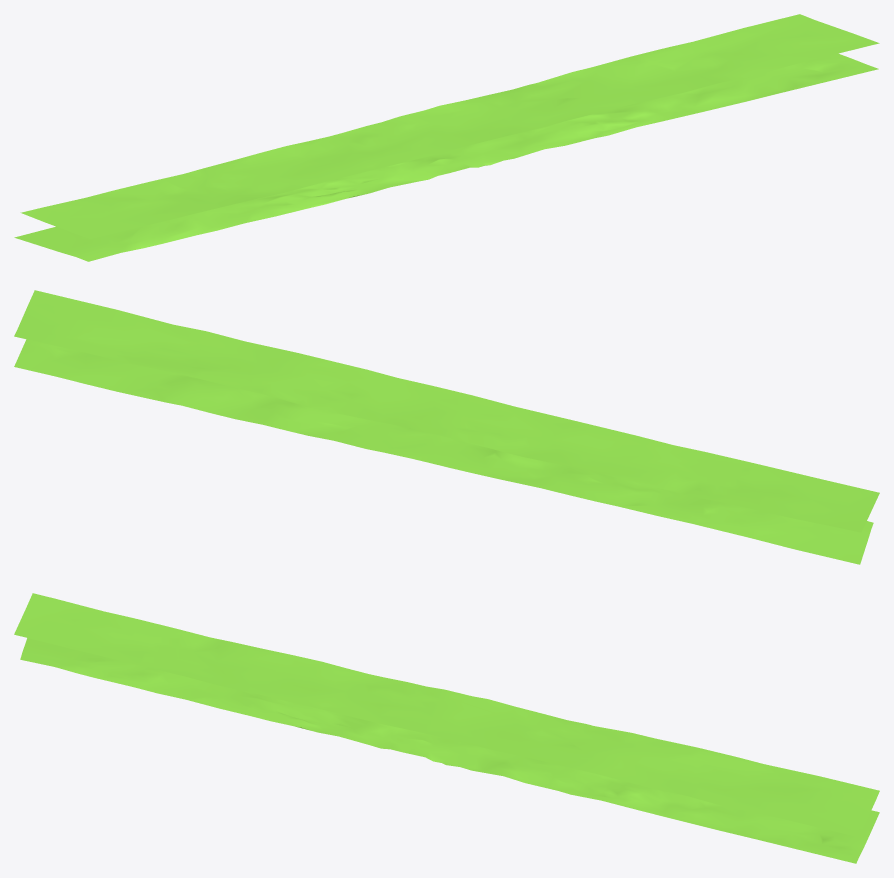
File: Unique 1.fbx
The picture shows the model from 3 angles, top to bottom: view 1: azimuth 30°, elevation 25°; view 2: azimuth 150°, elevation 25°; view 3: azimuth 330°, elevation 25°; orthographic projection. The views are drawn at different scales.
Parts seen in each view (by area): view 1: Unique 1; view 2: Unique 1; view 3: Unique 1.
Boxes of the visible parts, <box> form: Unique 1: <box>14,14,879,261</box>; Unique 1: <box>14,290,879,564</box>; Unique 1: <box>14,593,879,863</box>.
Bounding box in the file's own units: 3240 × 106 × 392.
